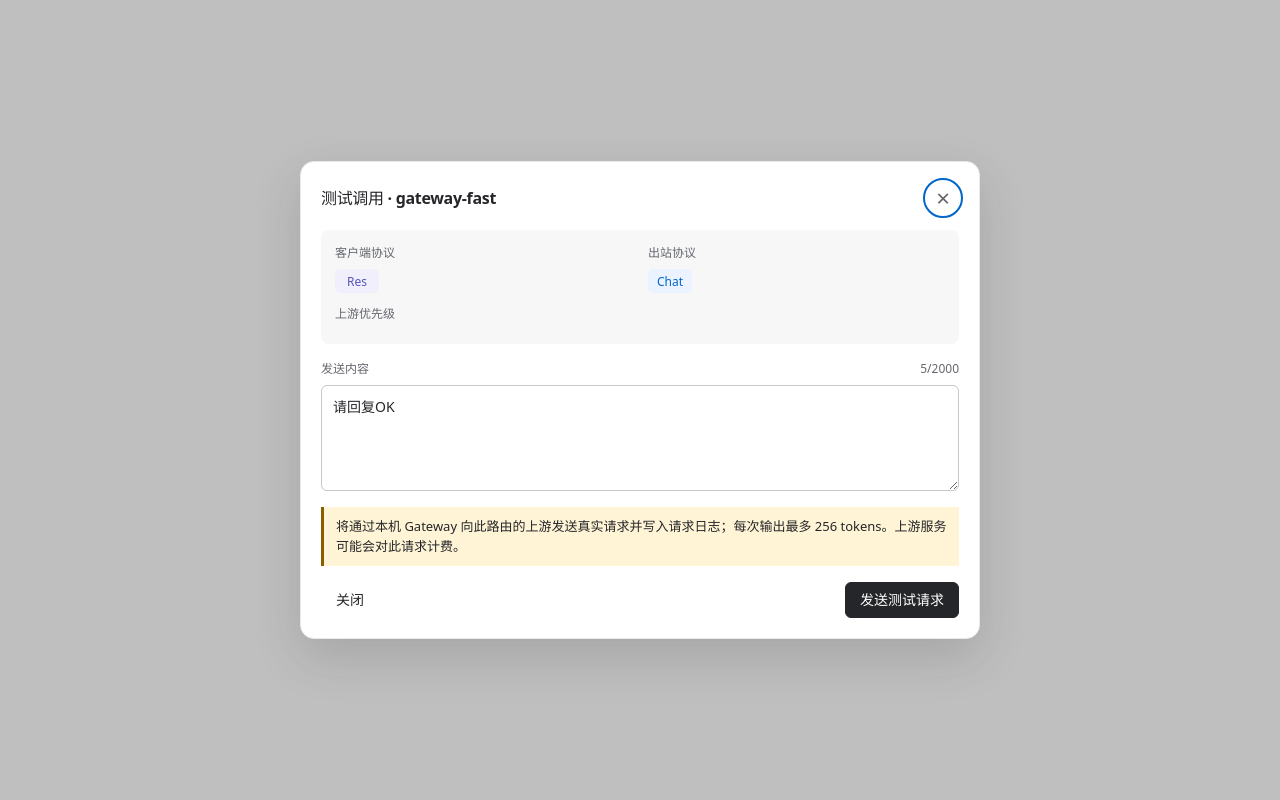
Test case: RouteTestDialog › shows a request error without closing the window
The width and height of the screenshot is (1280, 800).
Click the button "发送测试请求". click: click(902, 600)
box: [845,582,959,618]
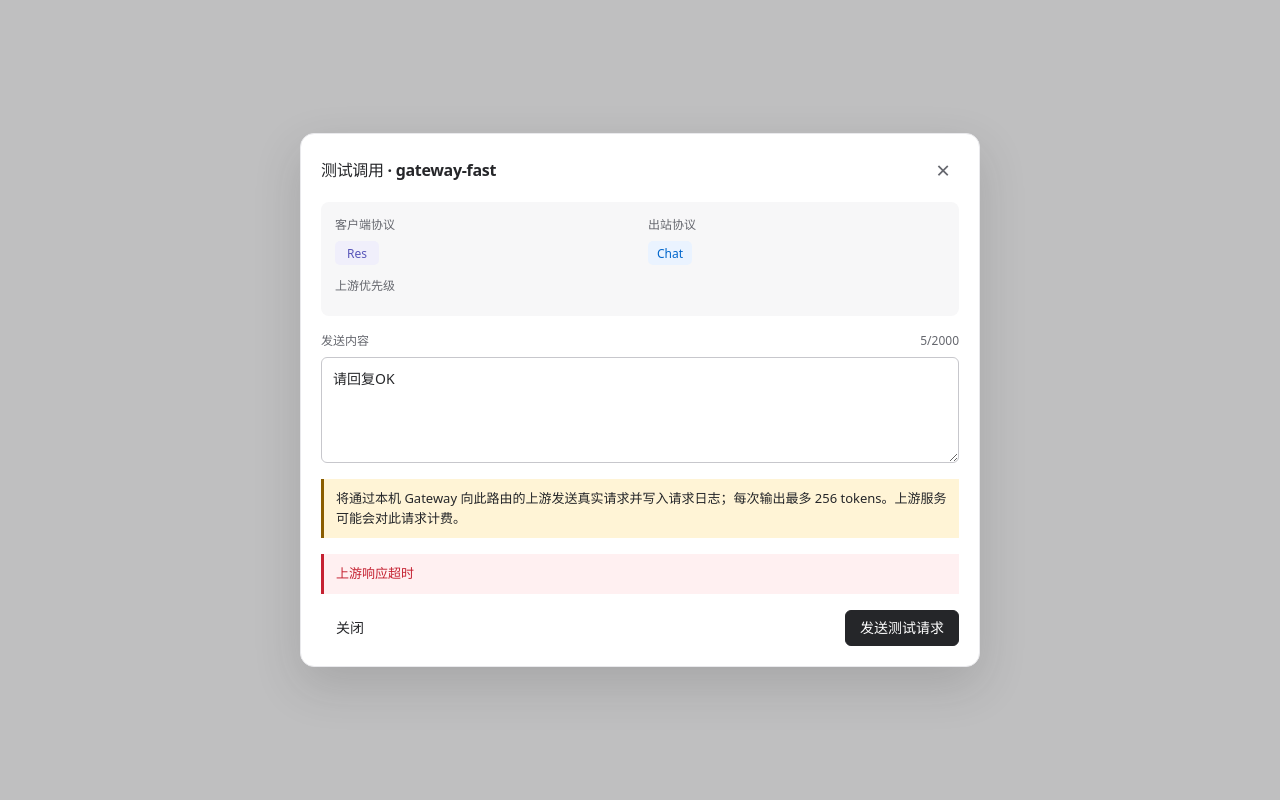
Expected: the dialog "测试调用 · gateway-fast" is shown, [300,133,980,667]
Now the message reads "上游响应超时", box [336,564,414,582]
